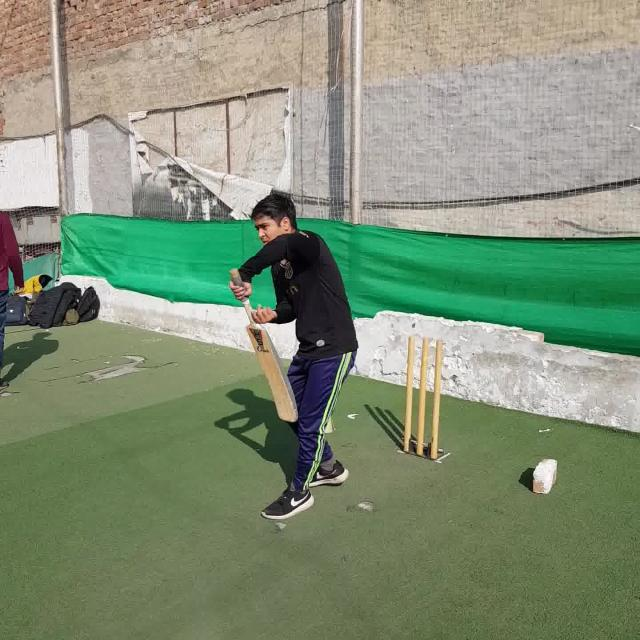bat: (230, 268, 300, 422)
